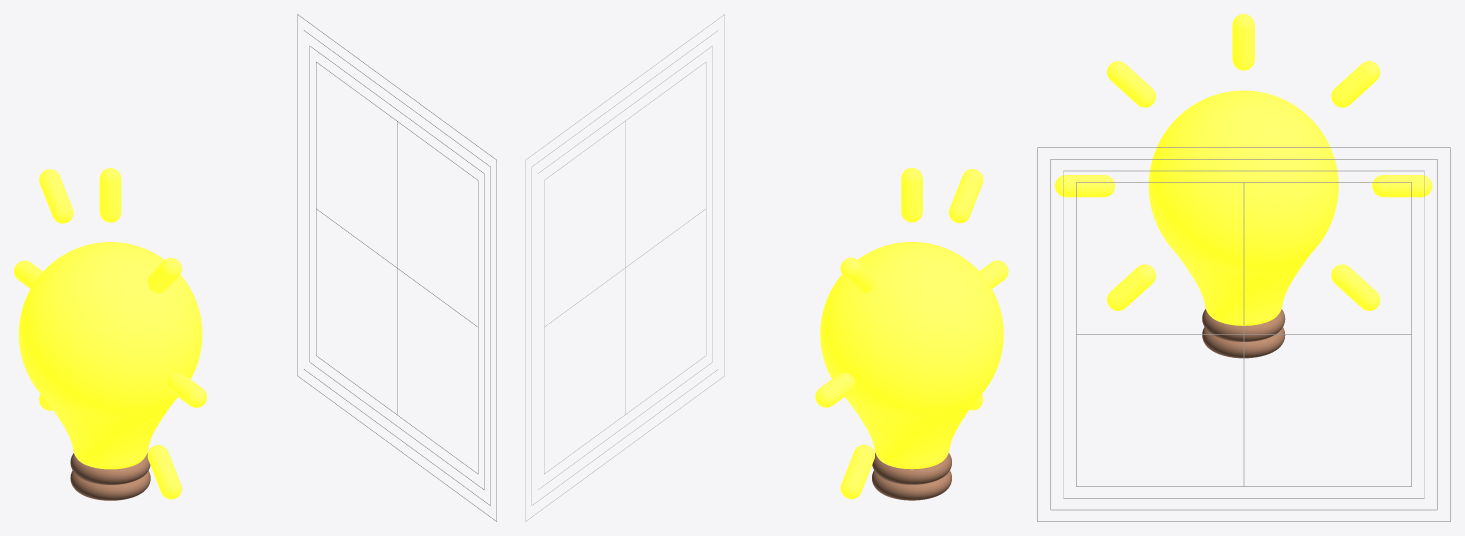
File: bulb.fbx
The picture shows the model from 3 angles, left to right: view 1: azimuth 30°, elevation 25°; view 2: azimuth 150°, elevation 25°; view 3: azimuth 270°, elevation 25°; orthographic projection. The views are drawn at different scales.
Parts seen in each view (by area): view 1: Sphere, Grid, bulb ops1.001, Cube.002, Cube.008, Cube.001, Cube.007, Cube.006; view 2: Sphere, Grid, bulb ops1.001, Cube.006, Cube.005, Cube.001, Cube.004, Cube.002; view 3: Sphere, Grid, bulb ops1.001, Cube.004, Cube.007, Cube.002, Cube.006, Cube.005, Cube.008, Cube.001.
Part boxes in pixels (x1,y1,x2,y2): Sphere: [19, 242, 202, 469]; Grid: [297, 14, 496, 521]; bulb ops1.001: [70, 453, 150, 500]; Cube.002: [39, 169, 73, 223]; Cube.008: [147, 445, 181, 499]; Cube.001: [99, 168, 121, 222]; Cube.007: [167, 373, 207, 407]; Cube.006: [147, 258, 181, 293]; Sphere: [820, 242, 1003, 469]; Grid: [525, 14, 724, 521]; bulb ops1.001: [872, 453, 951, 500]; Cube.006: [949, 169, 983, 223]; Cube.005: [840, 444, 874, 499]; Cube.001: [901, 168, 922, 222]; Cube.004: [815, 372, 855, 407]; Cube.002: [840, 257, 874, 293]; Sphere: [1148, 90, 1338, 325]; Grid: [1037, 147, 1450, 521]; bulb ops1.001: [1202, 309, 1285, 358]; Cube.004: [1372, 175, 1432, 197]; Cube.007: [1055, 175, 1114, 197]; Cube.002: [1331, 61, 1380, 107]; Cube.006: [1107, 61, 1155, 107]; Cube.005: [1331, 264, 1380, 310]; Cube.008: [1107, 264, 1155, 310]; Cube.001: [1232, 14, 1254, 70].
Size of the model in its own units: 783 by 740 by 740.
